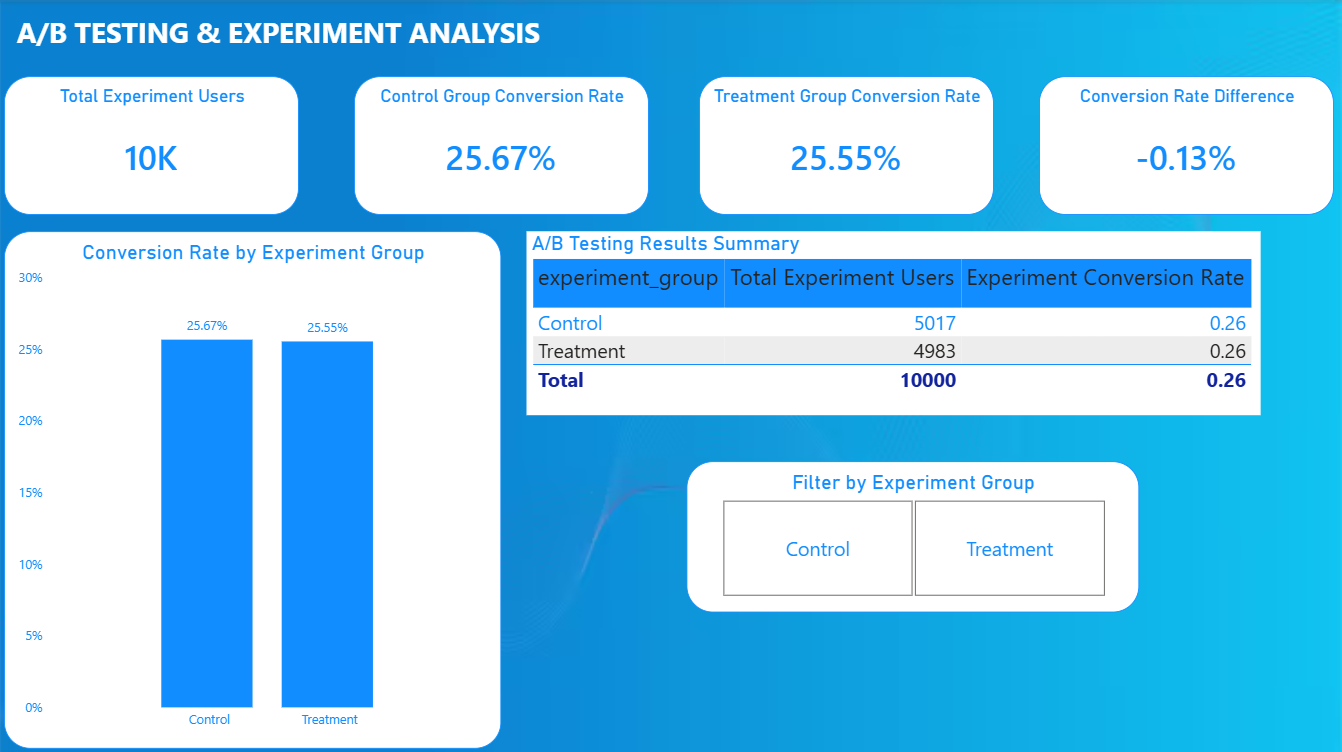

The page's visual inventory and layout, read from the dashboard file:
{"tool":"powerbi","page":{"name":"A/B Testing Analysis","canvas":[1280,720],"ordinal":3},"visuals":[{"type":"textbox","box":[7.1,7.1,517.9,48.8],"z":0},{"type":"cardVisual","title":"Total Experiment Users","fields":{"Data":["experiments.Total Experiment Users"]},"box":[4.8,72.6,281,132.1],"z":1000},{"type":"cardVisual","title":"Control Group Conversion Rate","fields":{"Data":["experiments.Control Conversion Rate"]},"box":[338.1,72.6,281,132.1],"z":2000},{"type":"cardVisual","title":"Treatment Group Conversion Rate","fields":{"Data":["experiments.Treatment Conversion Rate"]},"box":[666.7,72.6,281,132.1],"z":3000},{"type":"cardVisual","title":"Conversion Rate Difference","fields":{"Data":["experiments.Conversion Rate Difference"]},"box":[990.5,72.6,281,132.1],"z":4000},{"type":"clusteredColumnChart","title":"Conversion Rate by Experiment Group","fields":{"Category":["experiments.experiment_group"],"Y":["experiments.Experiment Conversion Rate"]},"box":[4.8,220.2,473.8,492.9],"z":5000},{"type":"tableEx","title":"A/B Testing Results Summary","fields":{"Values":["experiments.experiment_group","experiments.Total Experiment Users","experiments.Experiment Conversion Rate"]},"box":[502.4,220.2,698.8,175],"z":6000},{"type":"slicer","title":"Filter by Experiment Group","fields":{"Values":["experiments.experiment_group"]},"box":[654.8,439.3,431,144],"z":7000}]}

Visuals, with their boxes in screenshot pixels (x1, y1, x2, y2), scaled from the page's 1280x720 canvas onto the 1342x752 screenshot:
textbox: l=7, t=7, r=550, b=58
"Total Experiment Users" cardVisual: l=5, t=76, r=300, b=214
"Control Group Conversion Rate" cardVisual: l=354, t=76, r=649, b=214
"Treatment Group Conversion Rate" cardVisual: l=699, t=76, r=994, b=214
"Conversion Rate Difference" cardVisual: l=1038, t=76, r=1333, b=214
"Conversion Rate by Experiment Group" clusteredColumnChart: l=5, t=230, r=502, b=745
"A/B Testing Results Summary" tableEx: l=527, t=230, r=1259, b=413
"Filter by Experiment Group" slicer: l=687, t=459, r=1138, b=609
